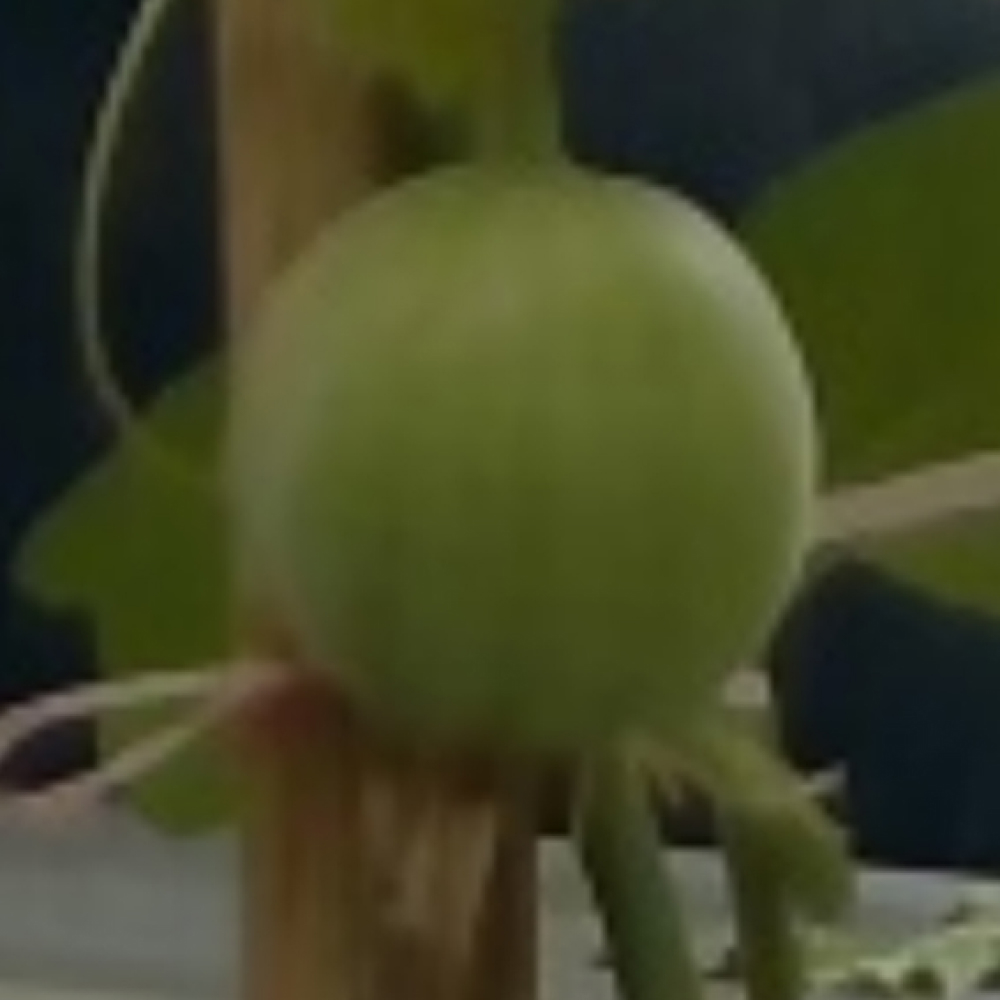melon: (218, 154, 827, 755)
